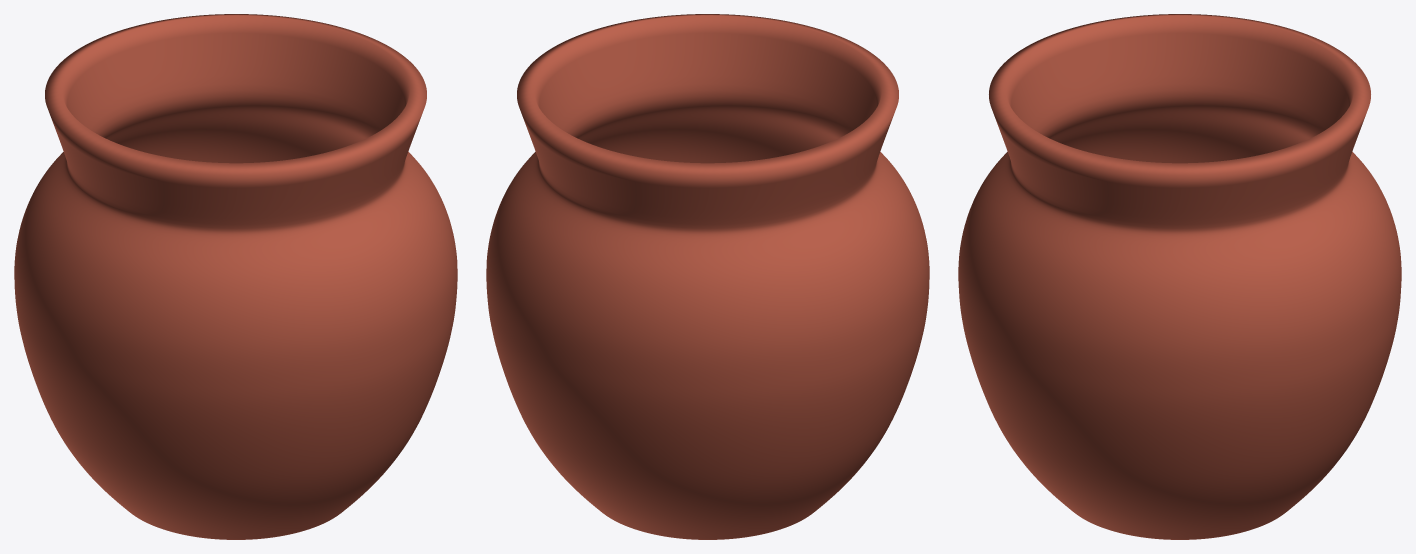
Rendered from _Clay_pot_.fbx.
The picture shows the model from 3 angles, left to right: view 1: azimuth 30°, elevation 25°; view 2: azimuth 150°, elevation 25°; view 3: azimuth 270°, elevation 25°; orthographic projection.
Visible parts, largest first — view 1: Circle; view 2: Circle; view 3: Circle.
Boxes of the visible parts, box(x1,y1,x2,y2) form: Circle: box(14, 14, 457, 539); Circle: box(486, 14, 929, 539); Circle: box(958, 14, 1401, 539).
Size of what is drawn, in the model's own units: 288 by 287 by 288.
